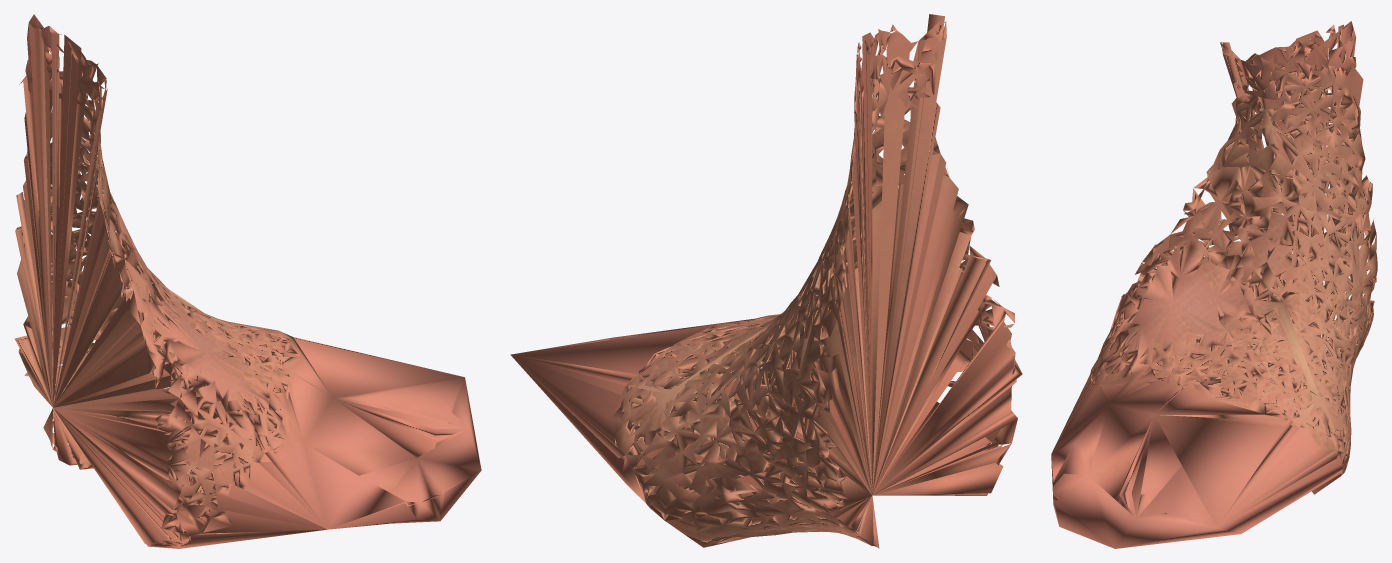
Rendered from clump-foot.glb.
The picture shows the model from 3 angles, left to right: view 1: azimuth 30°, elevation 25°; view 2: azimuth 150°, elevation 25°; view 3: azimuth 270°, elevation 25°; orthographic projection. The views are drawn at different scales.
Visible parts, largest first — view 1: tripo_node_050a8ff2-d920-45f1-8501-156382dbf47c; view 2: tripo_node_050a8ff2-d920-45f1-8501-156382dbf47c; view 3: tripo_node_050a8ff2-d920-45f1-8501-156382dbf47c.
Boxes of the visible parts, left/top/right/bottom form: tripo_node_050a8ff2-d920-45f1-8501-156382dbf47c: left=14, top=14, right=481, bottom=548; tripo_node_050a8ff2-d920-45f1-8501-156382dbf47c: left=510, top=14, right=1022, bottom=548; tripo_node_050a8ff2-d920-45f1-8501-156382dbf47c: left=1051, top=21, right=1377, bottom=548.
Size of the model in its own units: 0.5751 by 0.6999 by 0.4969.
1 material, 1 textured.
